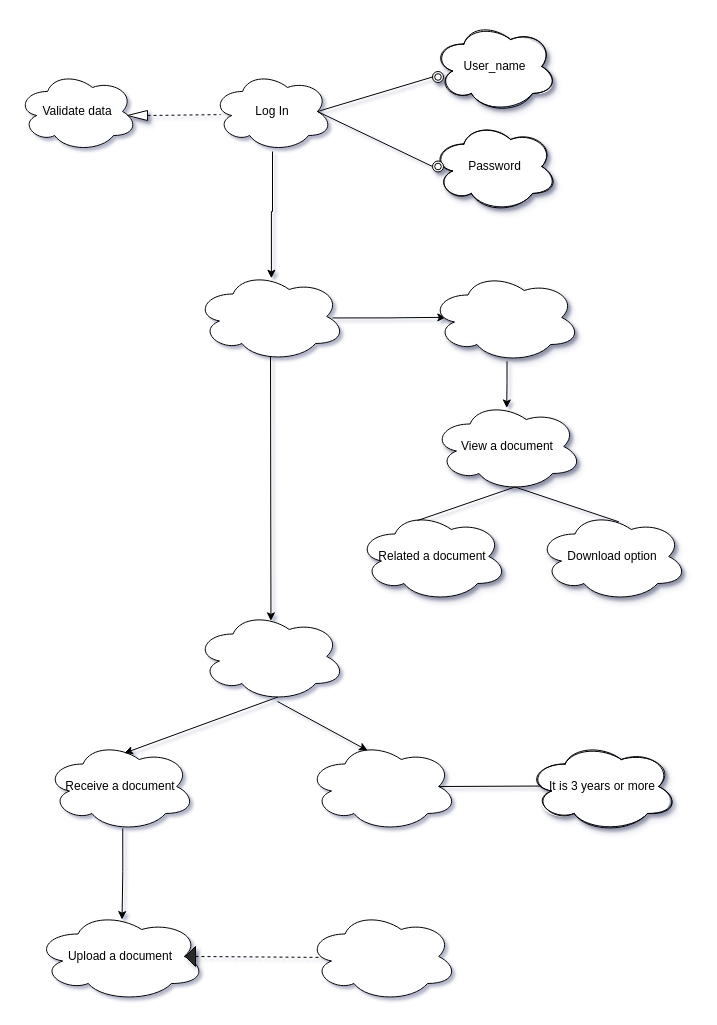
This 717x1025 diagram has some shape labels left out. Each missing label, with the centre of its shape:
"Category filter" belongs at point (506, 319).
"Delete a document" belongs at point (382, 786).
"Search a document" belongs at point (270, 316).
"Send a document" belongs at point (270, 656).
"Valid a document" belongs at point (382, 956).
